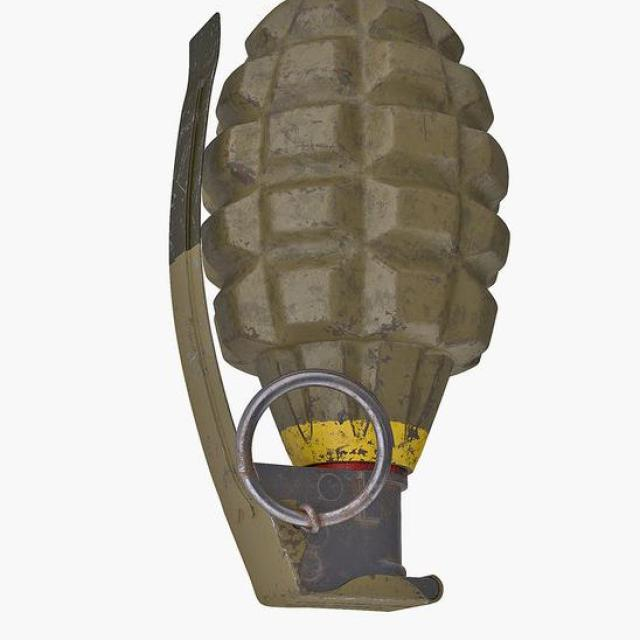grenade: (166, 2, 515, 611)
